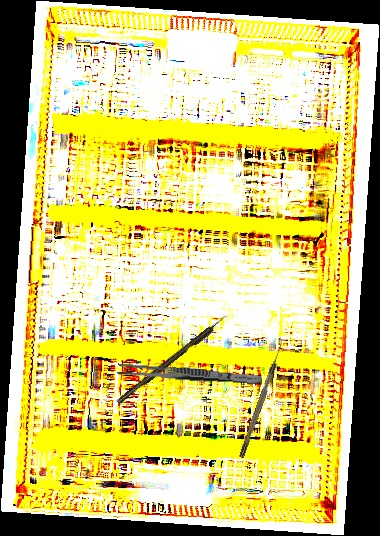Dressing Forceps: (117, 362, 263, 387)
Hook Surgical: (115, 313, 230, 406), (237, 344, 285, 459)
